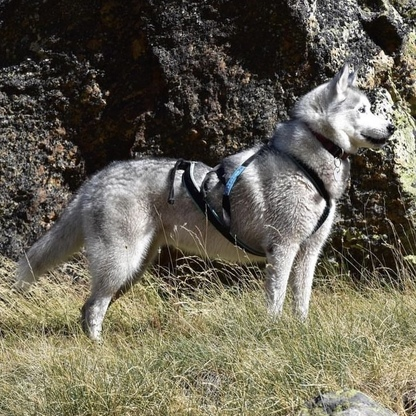husky: (11, 57, 400, 348)
